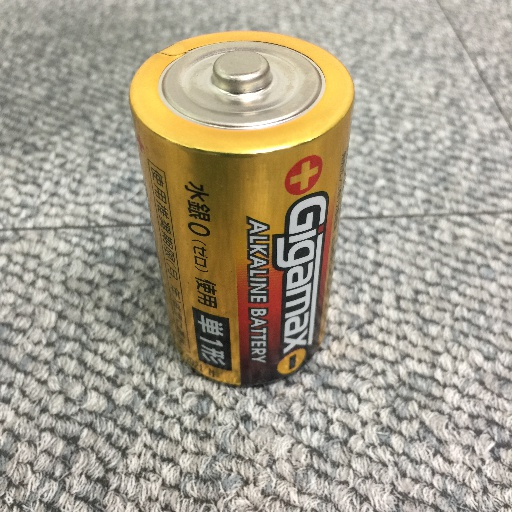Battery_0: (120, 22, 369, 402)
